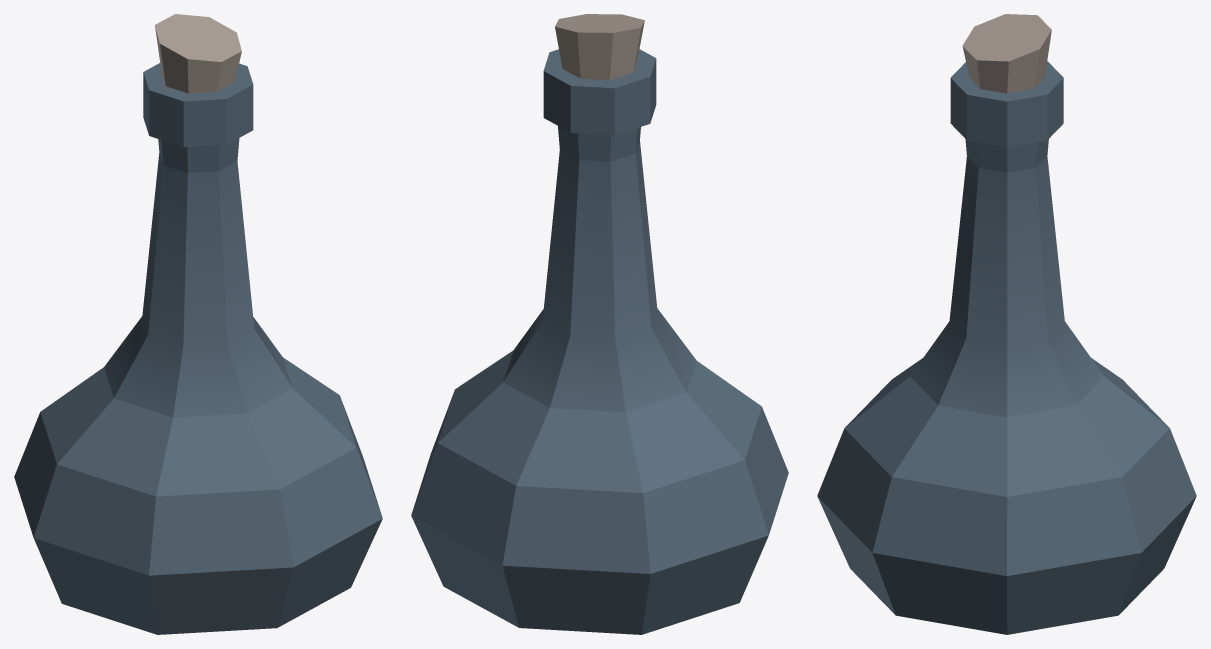
Rendered from Bottle_04.fbx.
3 views of the same model, side by side, from view 1: azimuth 30°, elevation 25°; view 2: azimuth 150°, elevation 25°; view 3: azimuth 270°, elevation 25° (orthographic). The views are drawn at different scales.
Visible parts, largest first — view 1: Bottle_04; view 2: Bottle_04; view 3: Bottle_04.
Part boxes in pixels (box(x1,y1,x2,y2)): Bottle_04: box(14, 14, 382, 634); Bottle_04: box(411, 14, 788, 634); Bottle_04: box(817, 14, 1196, 634).
Bounding box in the file's own units: 1.66 × 2.61 × 1.66.
